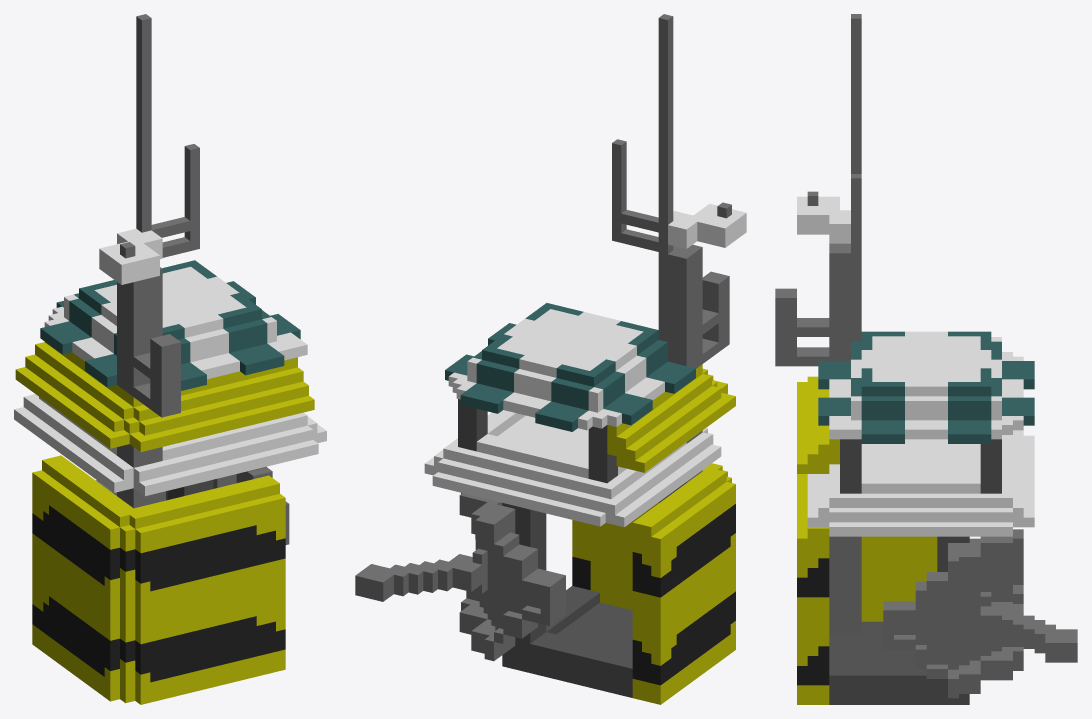
The model's file is AdvancedGuardTower.obj.
3 renders of one model, left to right at view 1: azimuth 30°, elevation 25°; view 2: azimuth 150°, elevation 25°; view 3: azimuth 270°, elevation 25°, orthographic. The views are drawn at different scales.
Size of the model in its own units: 2.7 by 6.5 by 2.8.
1 material, 1 textured.
